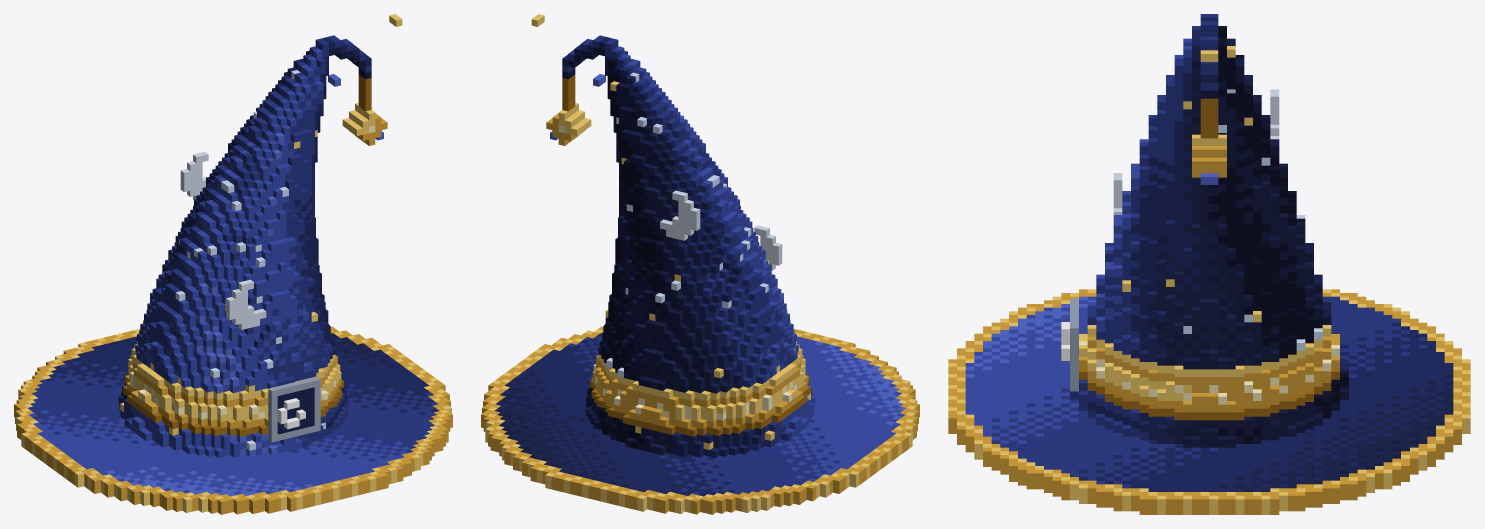
File: astral_wizard_hat.glb
The picture shows the model from 3 angles, left to right: view 1: azimuth 30°, elevation 25°; view 2: azimuth 150°, elevation 25°; view 3: azimuth 270°, elevation 25°; orthographic projection. The views are drawn at different scales.
Visible parts, largest first — view 1: Wizard Hat; view 2: Wizard Hat; view 3: Wizard Hat.
Boxes of the visible parts, <box> form: Wizard Hat: <box>14,14,452,514</box>; Wizard Hat: <box>481,14,919,514</box>; Wizard Hat: <box>948,14,1470,514</box>.
Size of the model in its own units: 0.9375 by 0.8906 by 0.9375.
Materials: 1 (1 with a texture image).
